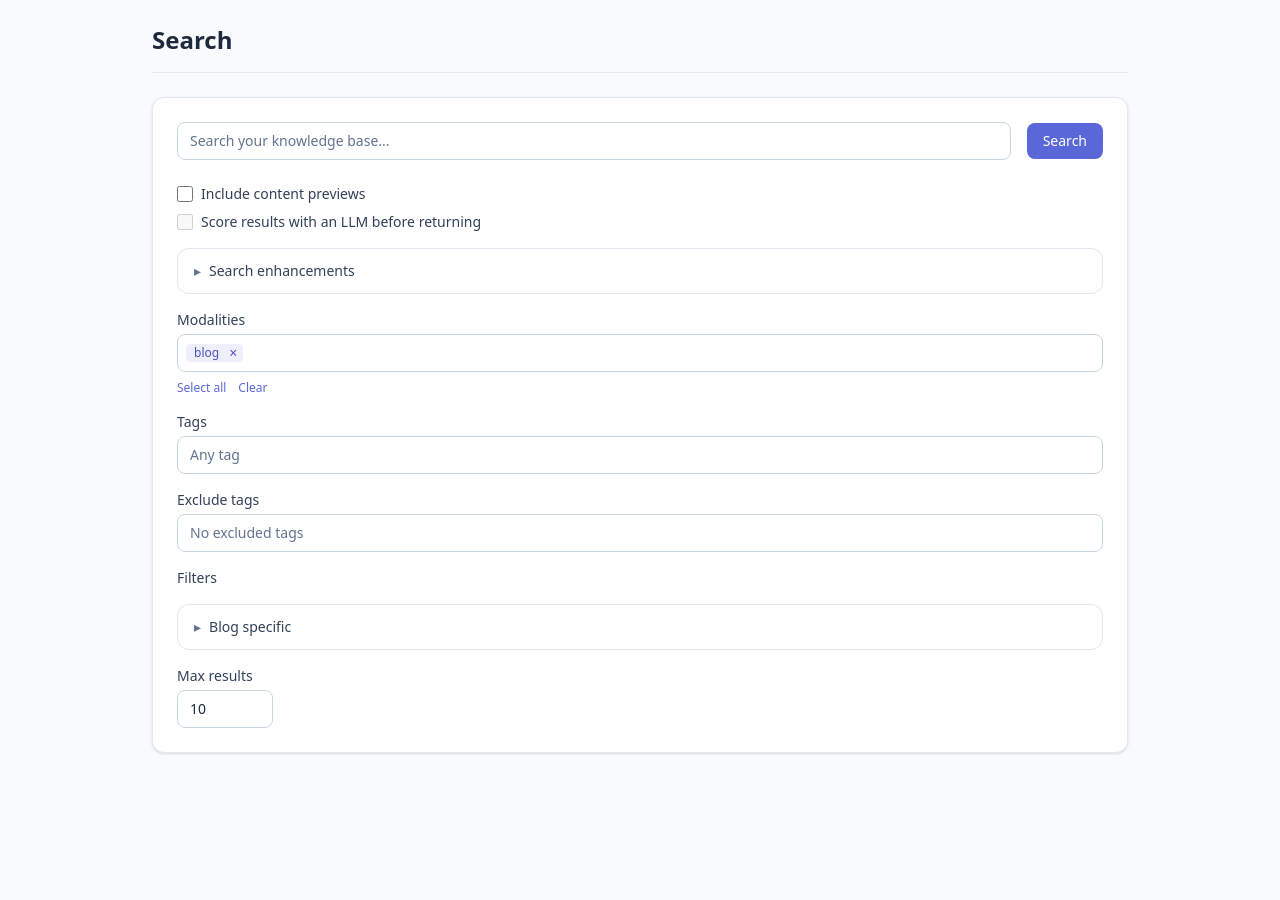
Test: Search › renders results returned from a search
Type "query" into the field with placeholder "Search your knowledge base...". click: [594, 141]
box: left=177, top=122, right=1011, bottom=160
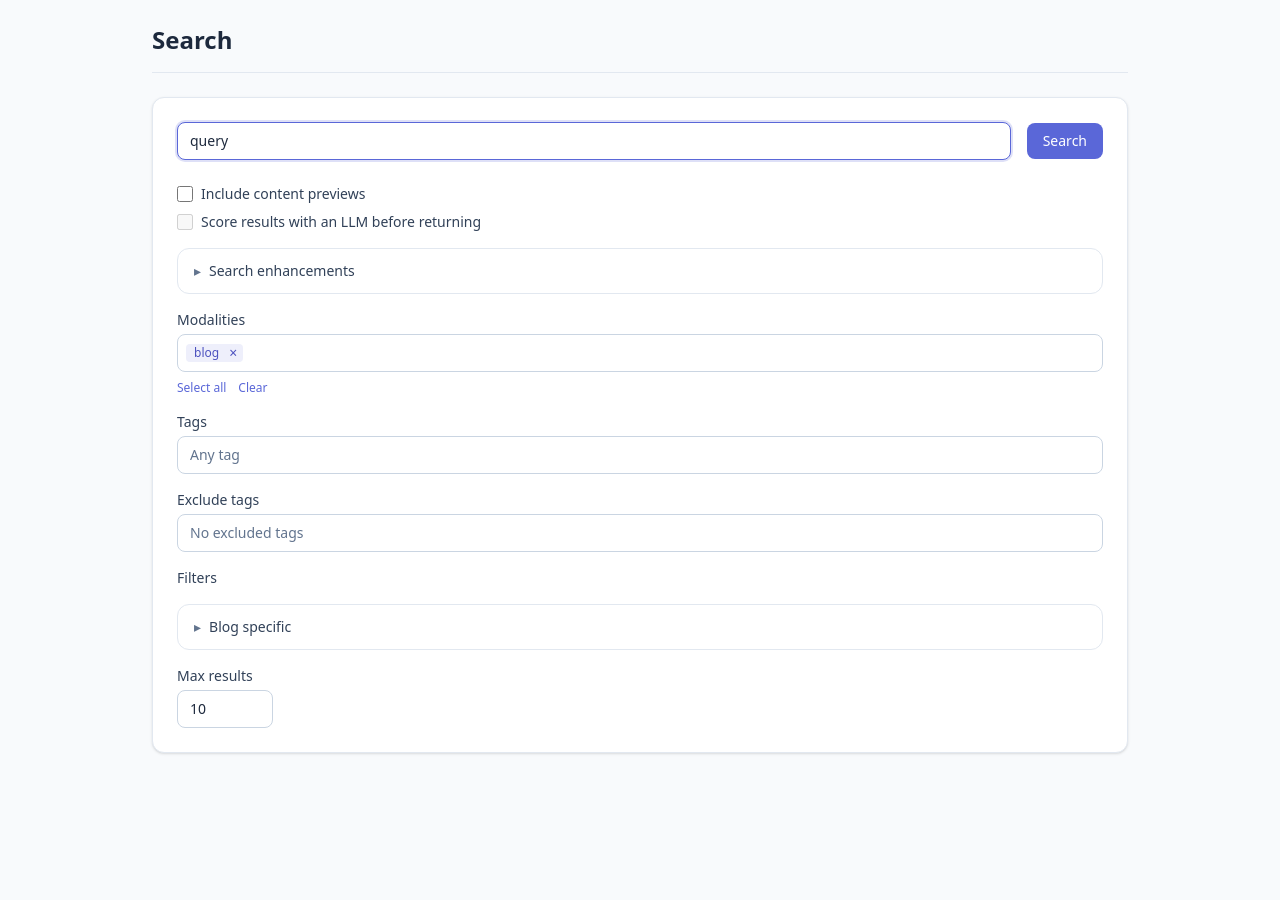
Click the button "Search". click: [1065, 141]
box: left=1027, top=123, right=1103, bottom=159
(page scrolled)
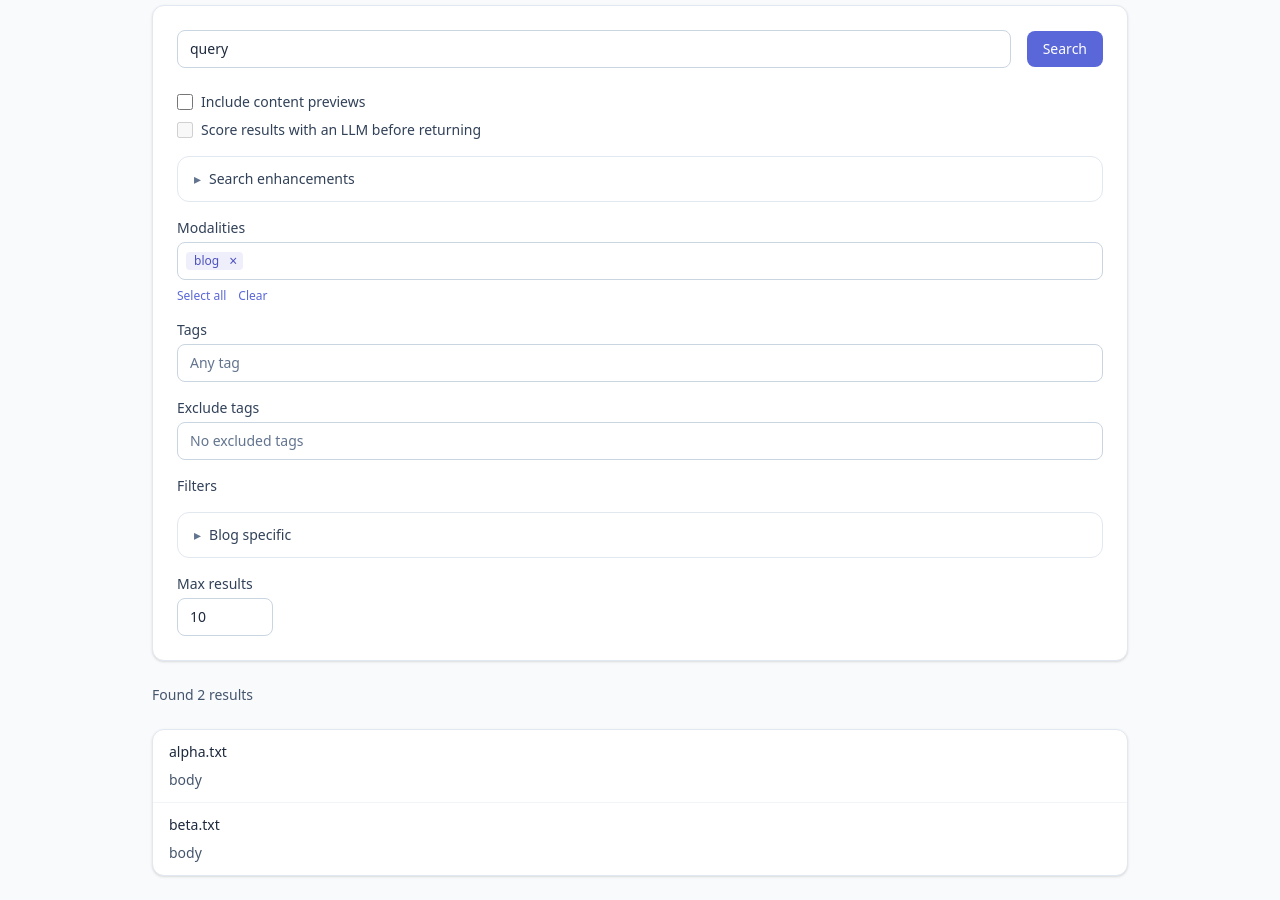
expect the message reads "Found 2 results": met, box left=152, top=685, right=253, bottom=704
expect the text "alpha.txt" is shown: met, box left=169, top=742, right=227, bottom=762
expect the text "beta.txt" is shown: met, box left=169, top=815, right=220, bottom=835
